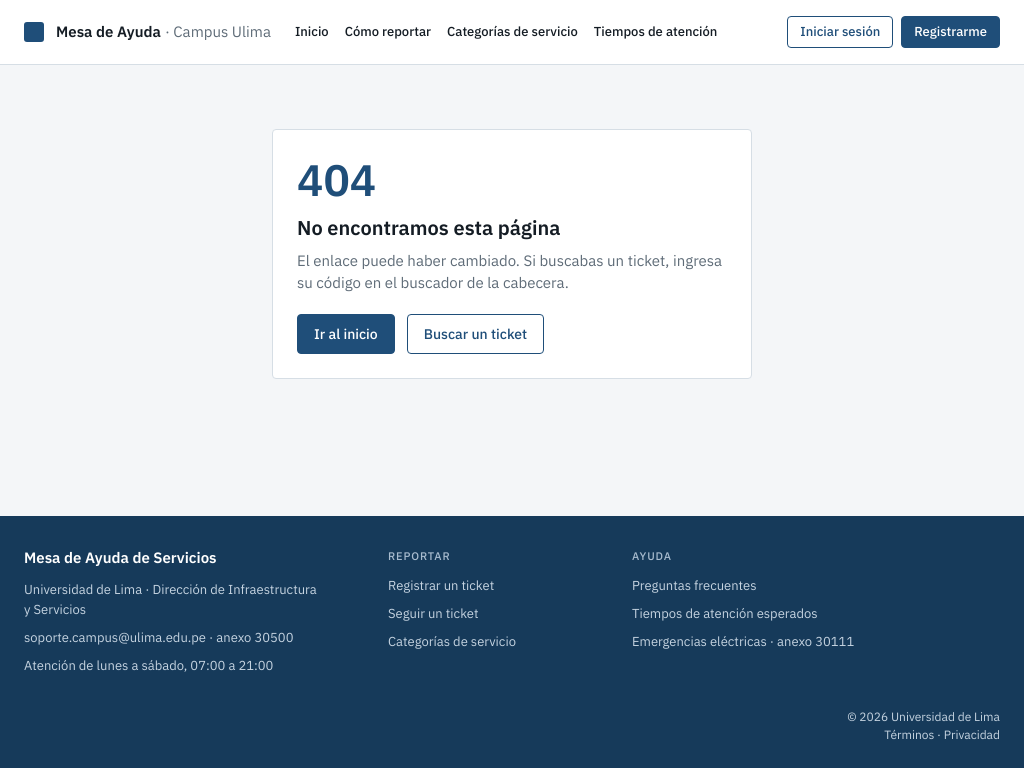
it: NotFoundPage › «Ir al inicio» vuelve a la landing
Click the link "Ir al inicio".
click(346, 334)  # box [297,314,395,354]
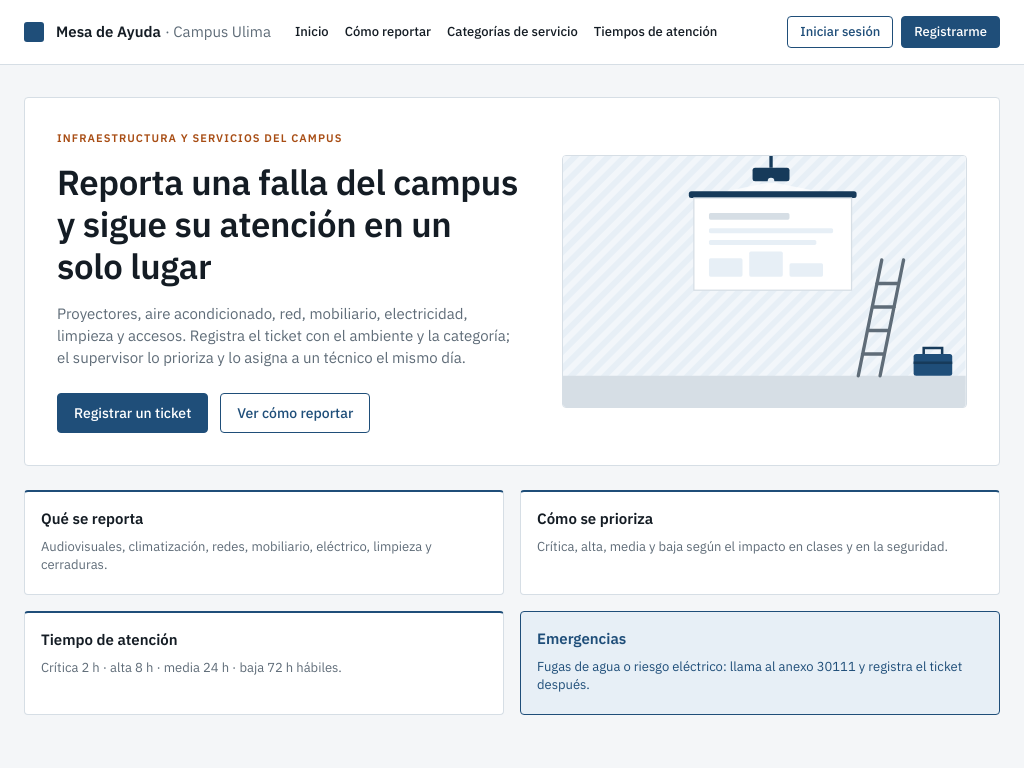
Check: the heading "Reporta una falla del campus y sigue su atención en un solo lugar" is shown, box [57,162,522,287]
